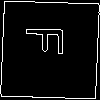F: (25, 25, 73, 57)
